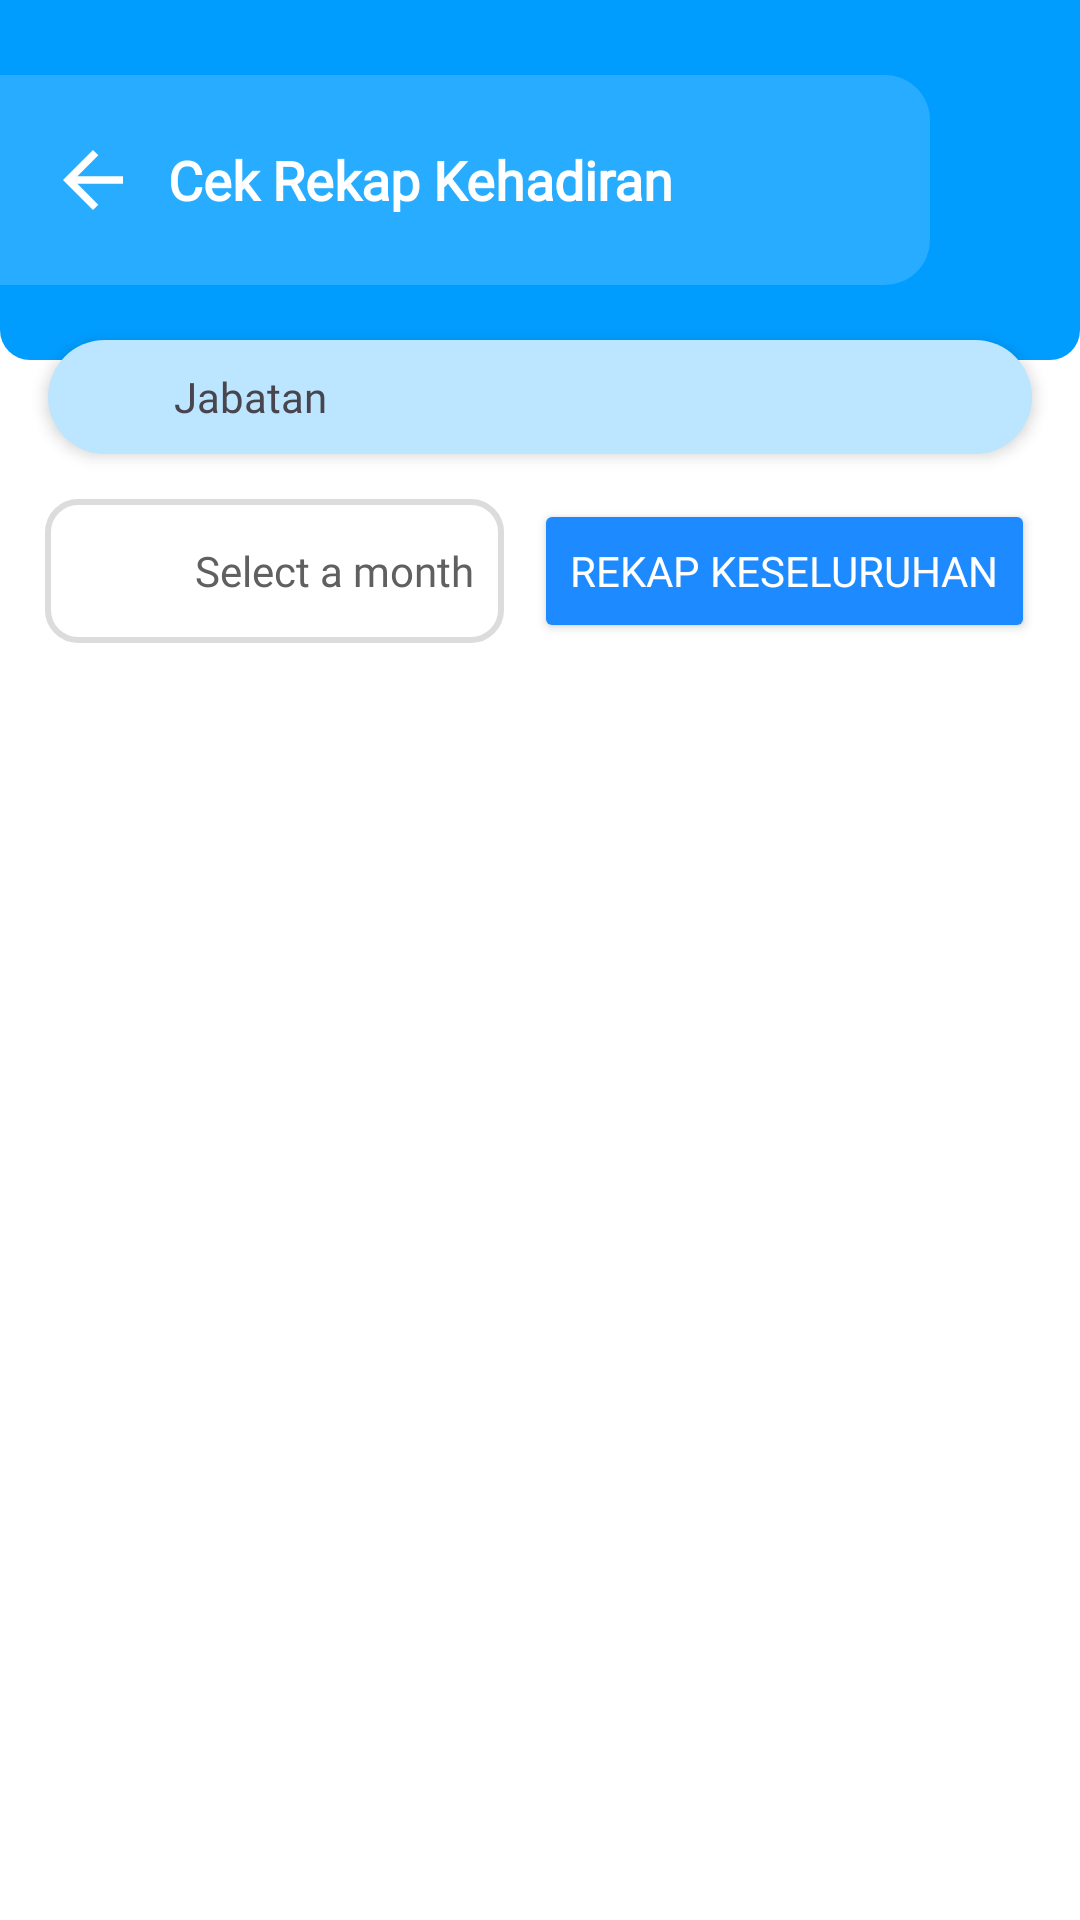

Icon click points for this 1080*1920 phone screenshot, format [x,y]:
Back: [93,180]
